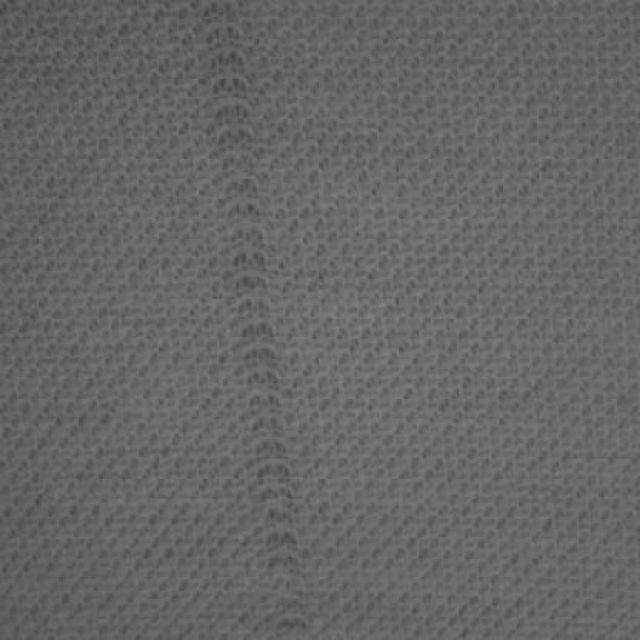Line: (205, 1, 311, 638)
